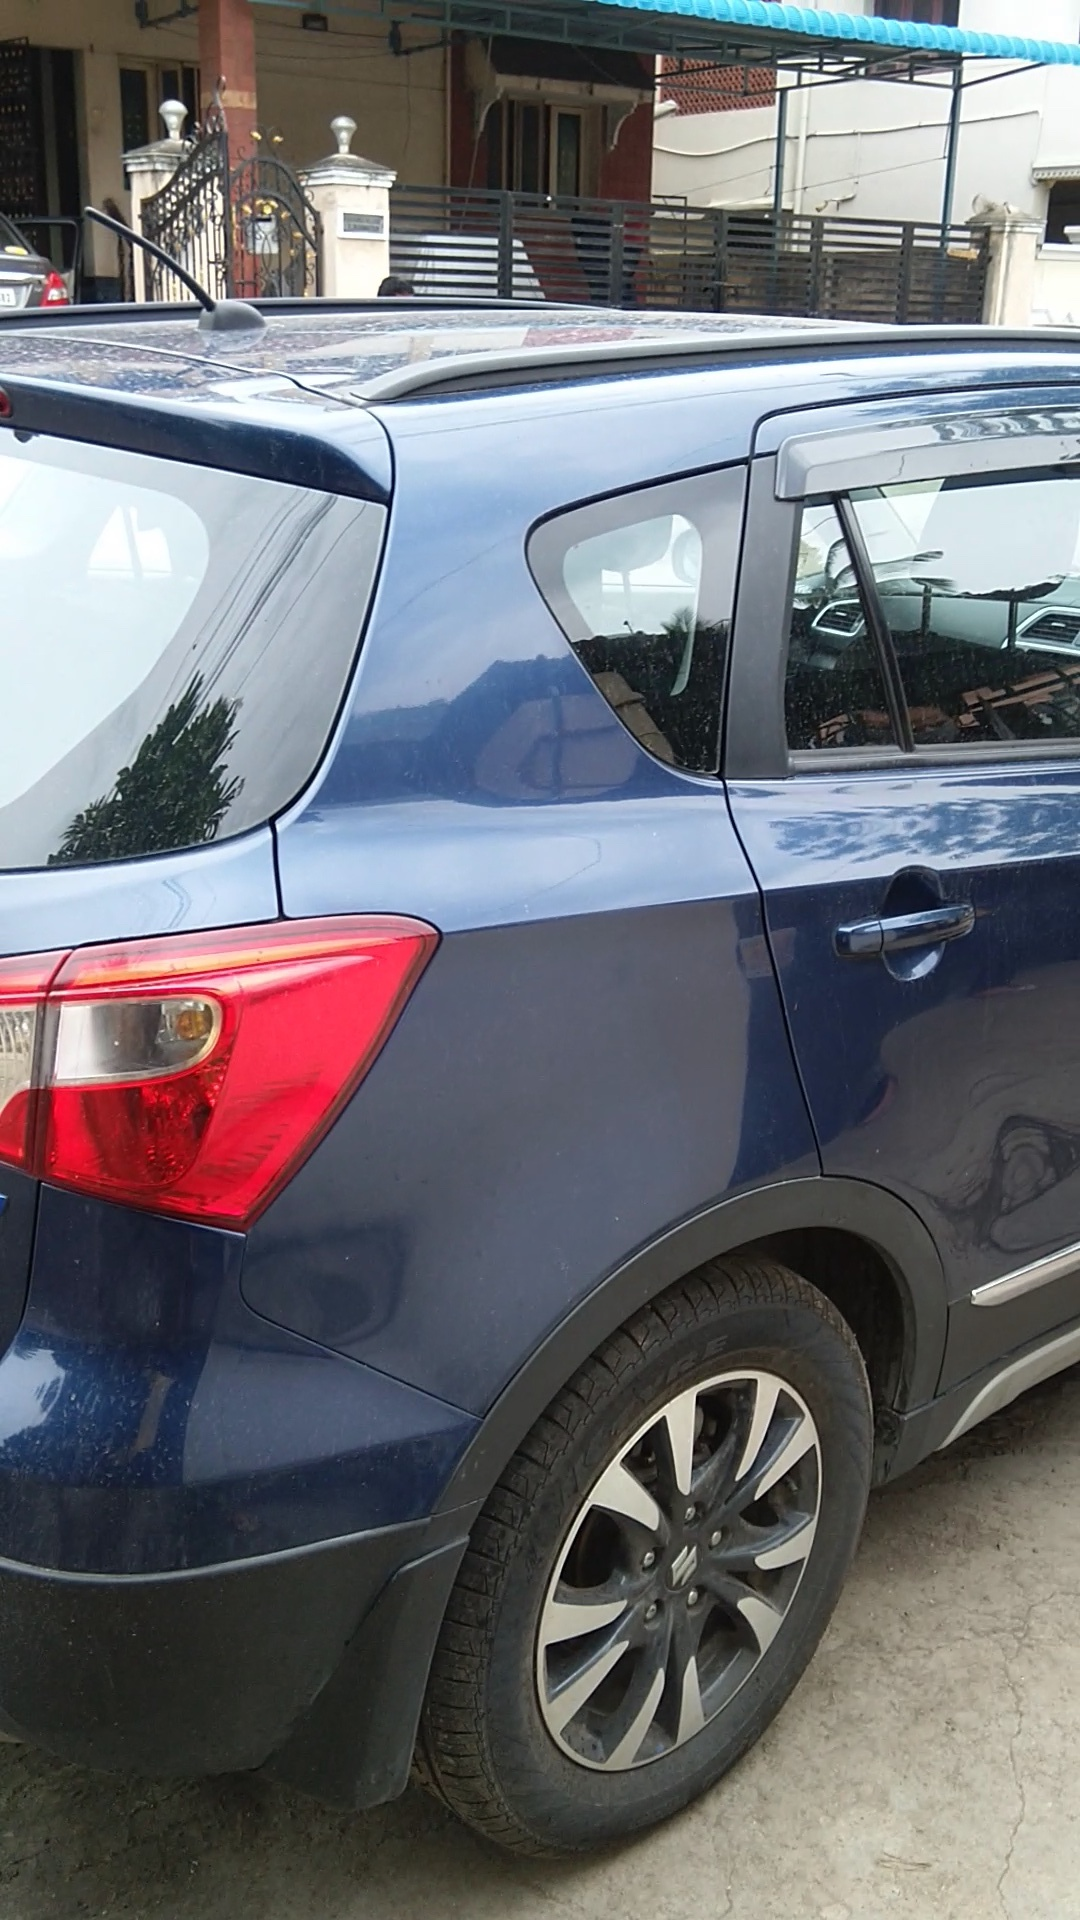alloy_wheel: (436, 1267, 872, 1870)
